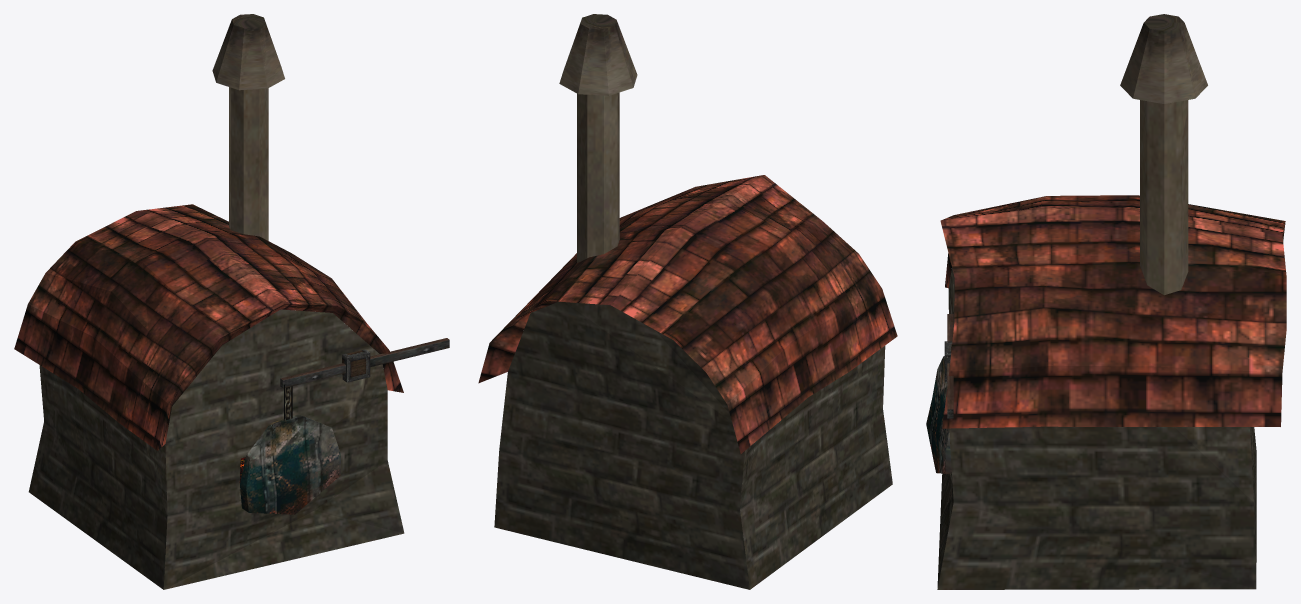
File: piec.glb
3 views of the same model, side by side, from view 1: azimuth 30°, elevation 25°; view 2: azimuth 150°, elevation 25°; view 3: azimuth 270°, elevation 25° (orthographic). The views are drawn at different scales.
Parts seen in each view (by area): view 1: zm_Frill, zm_Frill3, zm_Frill1; view 2: zm_Frill; view 3: zm_Frill, zm_Frill3, zm_Frill1.
Boxes of the visible parts, <box> form: zm_Frill: <box>14,14,404,589</box>; zm_Frill3: <box>240,414,340,514</box>; zm_Frill1: <box>280,338,449,388</box>; zm_Frill: <box>478,14,897,589</box>; zm_Frill: <box>937,14,1286,589</box>; zm_Frill3: <box>926,356,951,473</box>; zm_Frill1: <box>947,314,953,418</box>.
Bounding box in the file's own units: 1.89 × 2.8 × 1.72.
Materials: 5 (5 with a texture image).
